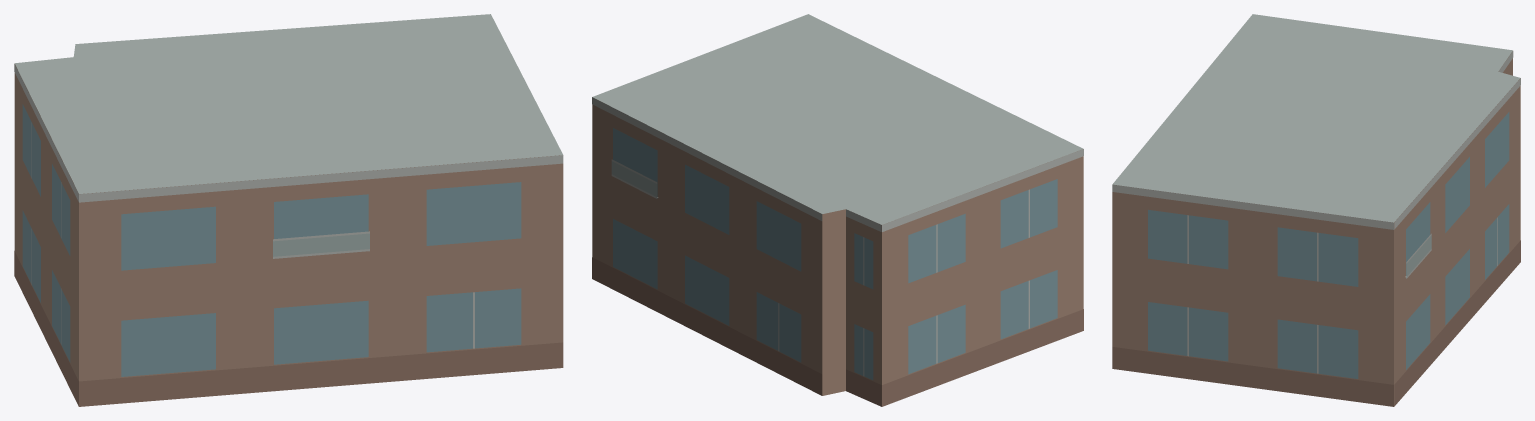
File: survey-upis-32526647.glb
The picture shows the model from 3 angles, left to right: view 1: azimuth 30°, elevation 25°; view 2: azimuth 150°, elevation 25°; view 3: azimuth 270°, elevation 25°; orthographic projection. The views are drawn at different scales.
Parts seen in each view (by area): view 1: survey-upis-32526647.tmp; view 2: survey-upis-32526647.tmp; view 3: survey-upis-32526647.tmp.
Part boxes in pixels (x1,y1,x2,y2): survey-upis-32526647.tmp: (14, 14, 563, 406); survey-upis-32526647.tmp: (592, 14, 1083, 406); survey-upis-32526647.tmp: (1112, 14, 1520, 406).
Size of the model in its own units: 14.82 by 6.1 by 12.26.
